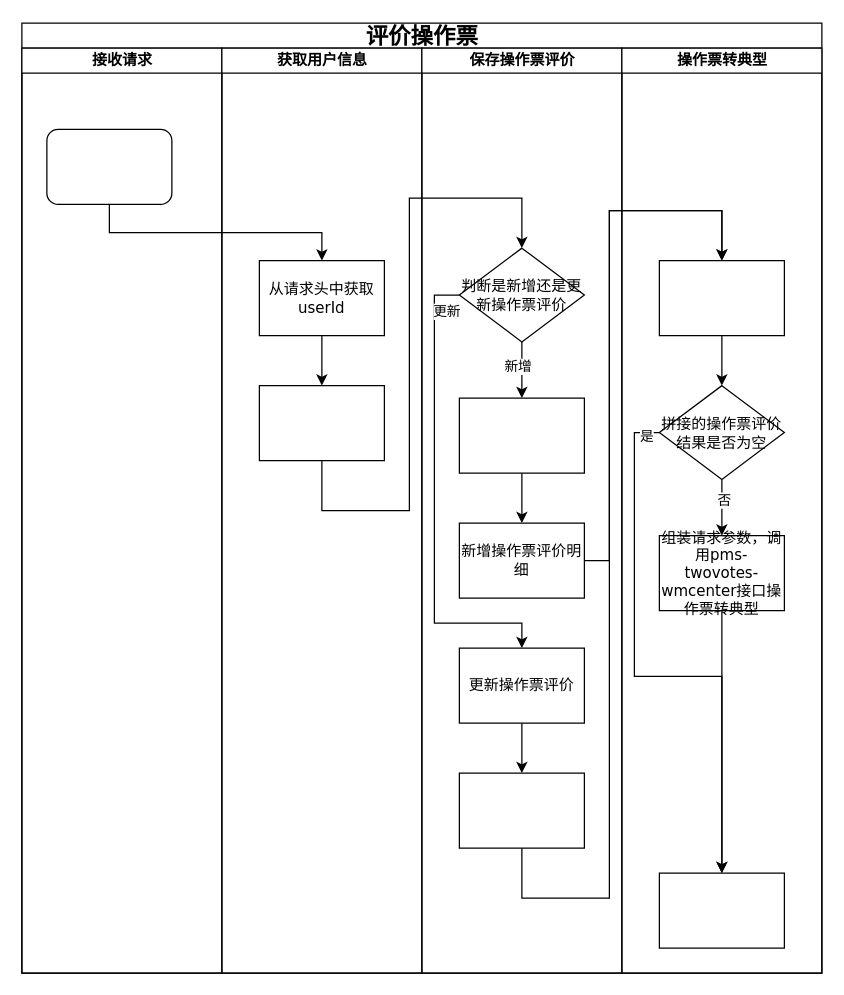
Image size: 844x995. Some labels were removed from this diagram. Each missing label, with the centre of its shape:
开始: point (109, 166)
成功返回: point (721, 910)
新增操作票评价: point (521, 435)
更新操作票评价明细: point (521, 810)
调用yj-pms-authorith接口获取用户信息: point (321, 422)
遍历操作票评价拼接操作票评价结果、操作票评价人: point (721, 297)
